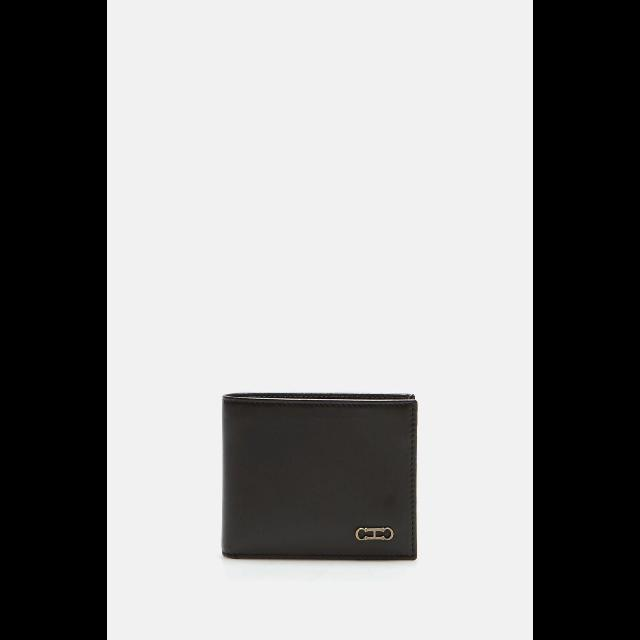wallet: (212, 386, 424, 570)
